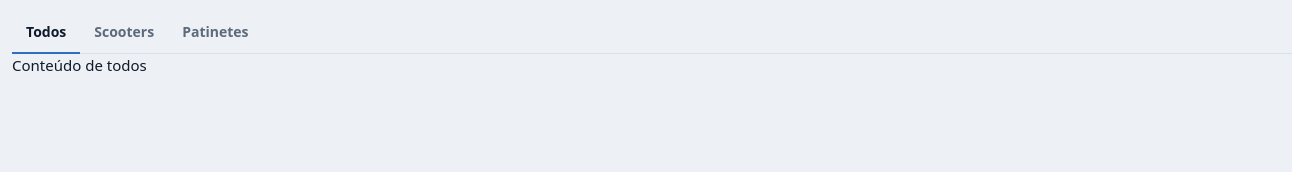
it: Abas › troca no clique e não avisa ao clicar na aba já escolhida
The image size is (1292, 172).
Click the tab "Todos".
click(46, 33)  # box [12,12,80,54]
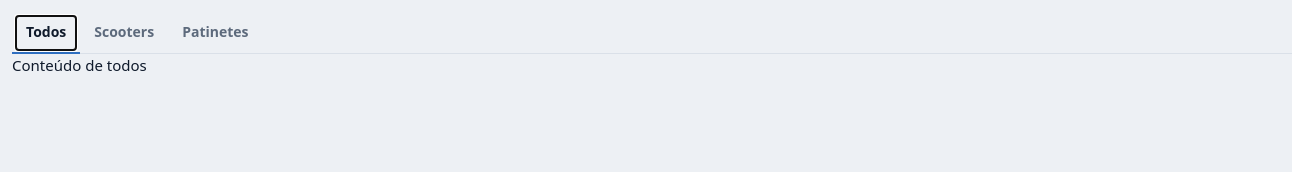
Click the tab "Patinetes".
click(215, 33)  # box [168,12,263,54]
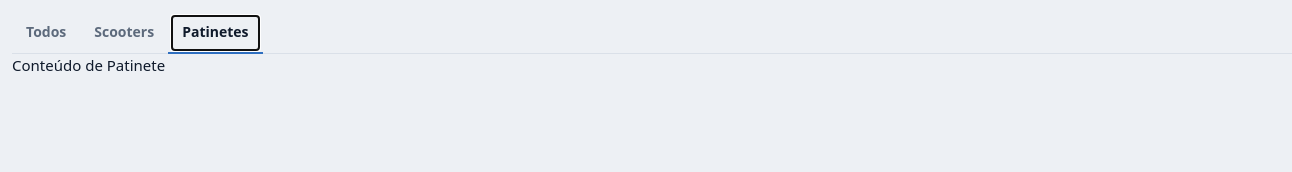
Now the panel named "Patinetes" reads "Conteúdo de Patinete", box [12,55,234,99]
